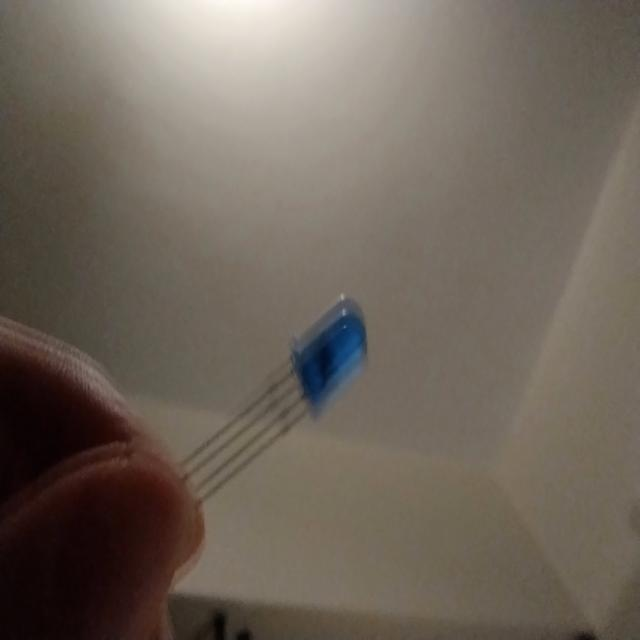blue_led: (288, 292, 370, 419)
